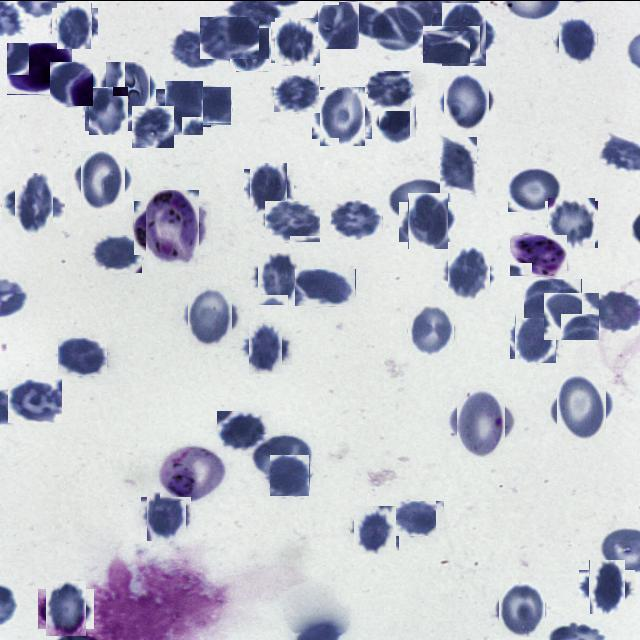difficult: (140, 194, 206, 260)
leukocyte: (7, 42, 73, 94)
red blood cell: (552, 378, 610, 436), (387, 176, 453, 221), (437, 7, 491, 61), (184, 289, 237, 342), (252, 432, 312, 478), (76, 154, 129, 206), (441, 75, 493, 127), (496, 583, 548, 635), (316, 90, 368, 142), (544, 292, 600, 340), (546, 198, 596, 248), (406, 306, 456, 356), (8, 178, 58, 228), (508, 165, 562, 211), (200, 16, 259, 58), (103, 63, 153, 112), (8, 378, 62, 422), (264, 200, 320, 242), (371, 4, 422, 50), (524, 278, 582, 318), (295, 268, 356, 306), (445, 249, 493, 297), (42, 584, 90, 632), (255, 254, 303, 301), (404, 197, 452, 244), (217, 410, 270, 452), (422, 24, 480, 62), (331, 198, 383, 240), (440, 136, 478, 193), (160, 84, 207, 130), (512, 314, 558, 360), (584, 564, 630, 610), (316, 0, 362, 46), (352, 506, 397, 552), (273, 19, 318, 64), (144, 493, 188, 538), (58, 337, 108, 376), (391, 500, 445, 536), (247, 165, 291, 209), (86, 88, 130, 132), (172, 29, 220, 69), (183, 86, 232, 125), (92, 234, 142, 272), (50, 61, 93, 105), (556, 18, 599, 60), (245, 326, 288, 368), (229, 28, 271, 70), (132, 105, 174, 147), (274, 74, 320, 112), (368, 70, 411, 110), (54, 4, 95, 45), (270, 454, 310, 496), (378, 104, 417, 142)
ring: (452, 392, 512, 451)
trophozoite: (160, 445, 228, 500), (510, 234, 568, 276)
